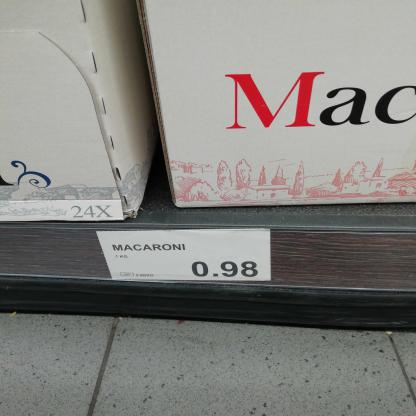prtg: (98, 231, 272, 281)
